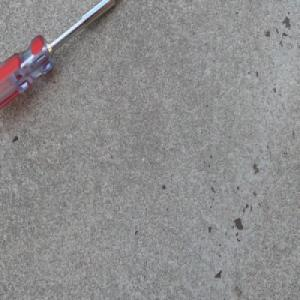Screwdriver: (0, 0, 118, 111)
